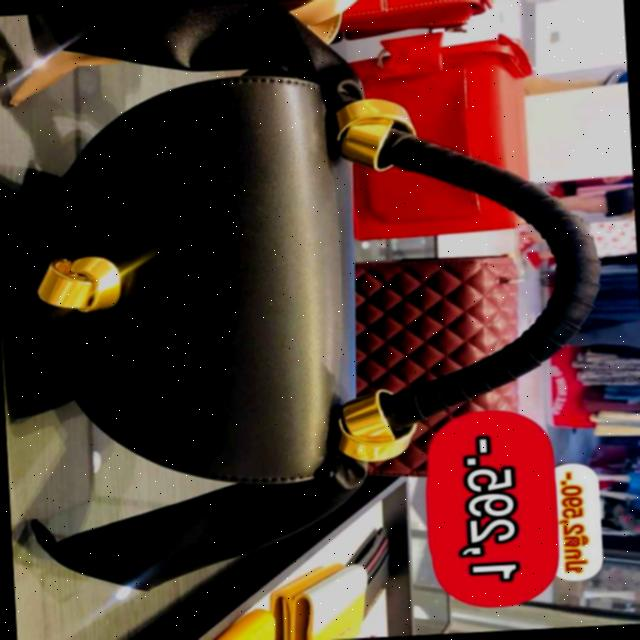Handbag: (0, 57, 406, 537)
